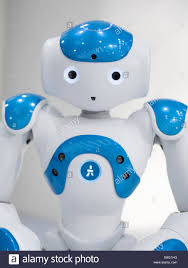nao: (4, 16, 188, 250)
